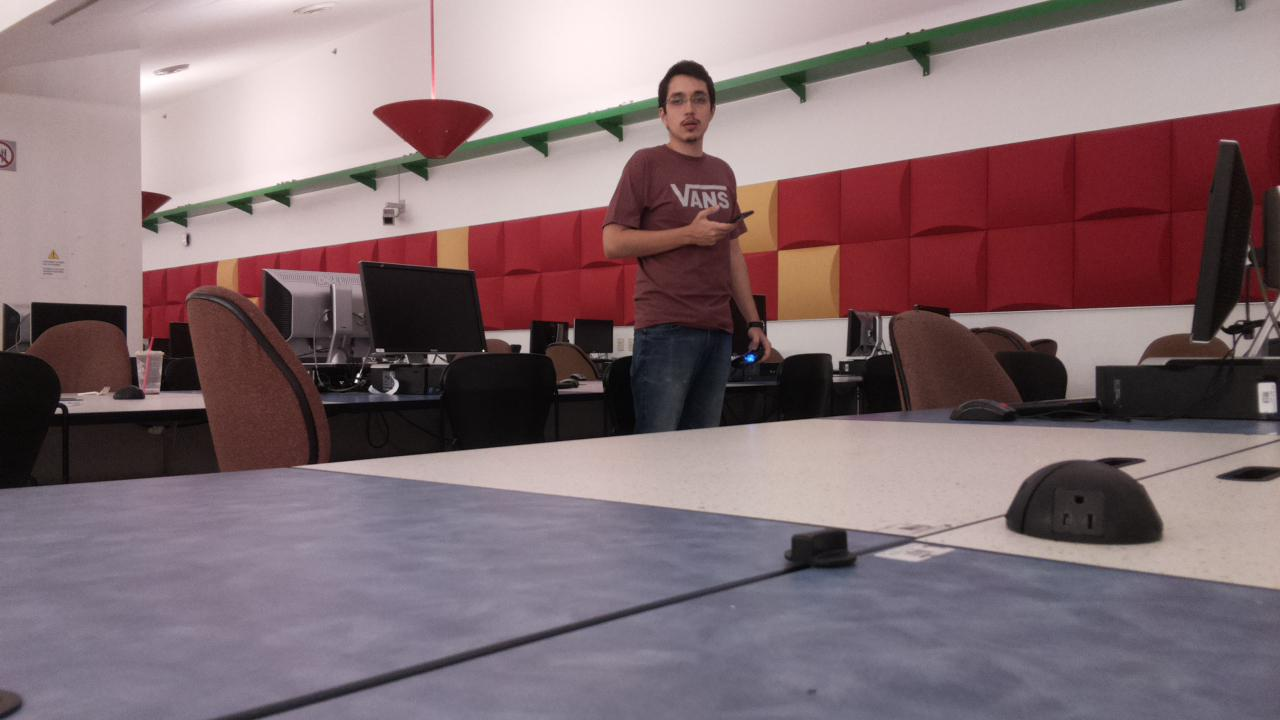person: (602, 60, 769, 436)
sign: (40, 244, 68, 277)
tvmonitor: (1191, 141, 1253, 340), (361, 262, 486, 350), (264, 268, 387, 355), (847, 309, 880, 355), (531, 321, 568, 355), (575, 320, 612, 351)
